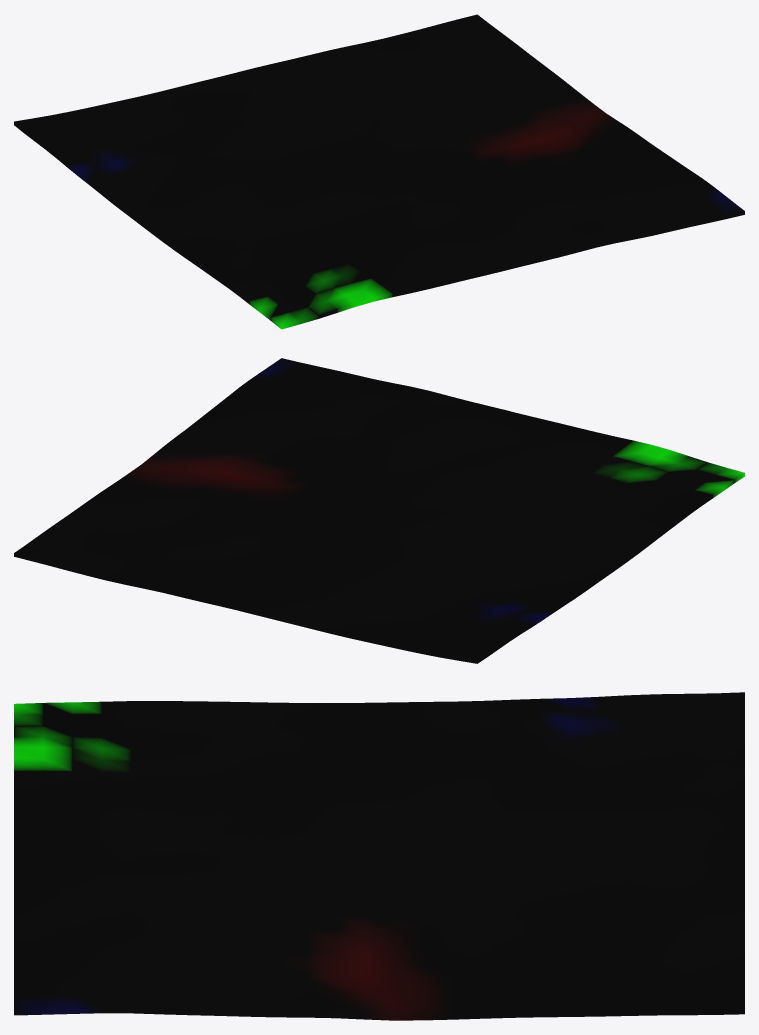
Rendered from coast_15_7.glb.
3 views of the same model, one above another, from view 1: azimuth 30°, elevation 25°; view 2: azimuth 150°, elevation 25°; view 3: azimuth 270°, elevation 25° (orthographic). The views are drawn at different scales.
Parts seen in each view (by area): view 1: terrain; view 2: terrain; view 3: terrain.
Part boxes in pixels (left/top/right/bottom): terrain: left=14, top=14, right=744, bottom=329; terrain: left=14, top=358, right=744, bottom=663; terrain: left=14, top=692, right=744, bottom=1020.
Size of the model in its own units: 200 by 5.87 by 200.
